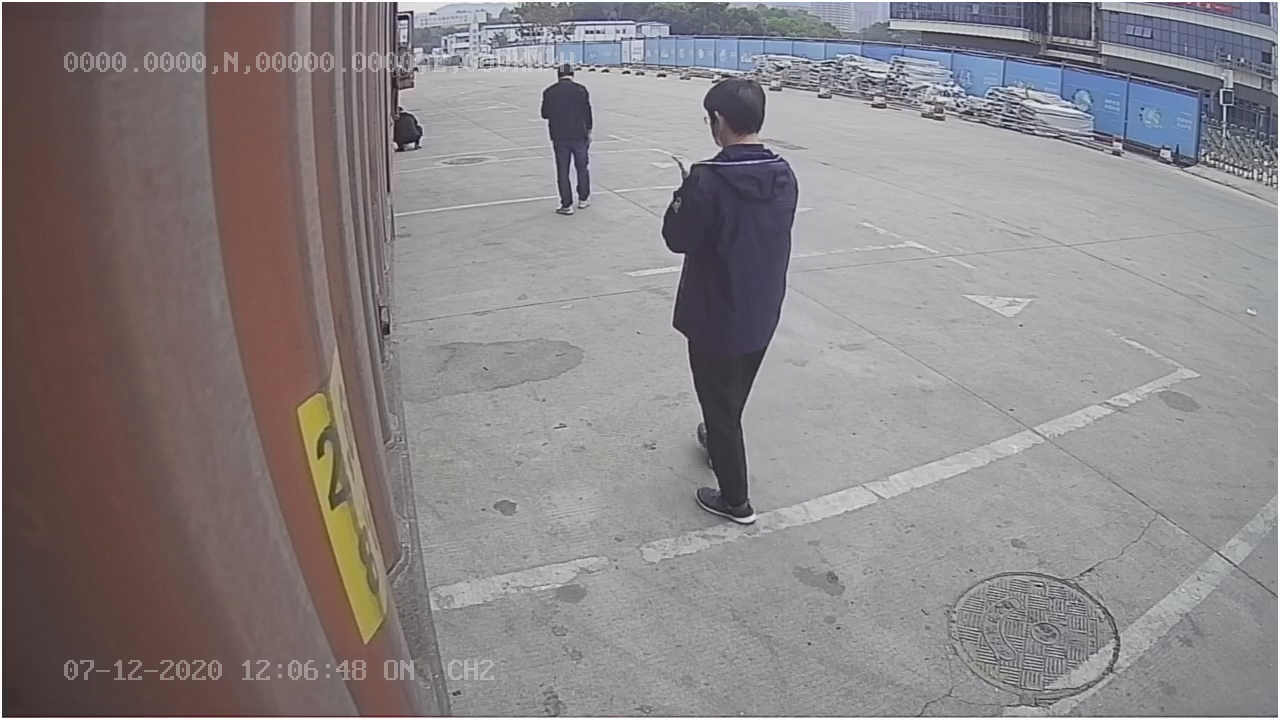person: (655, 77, 806, 527)
